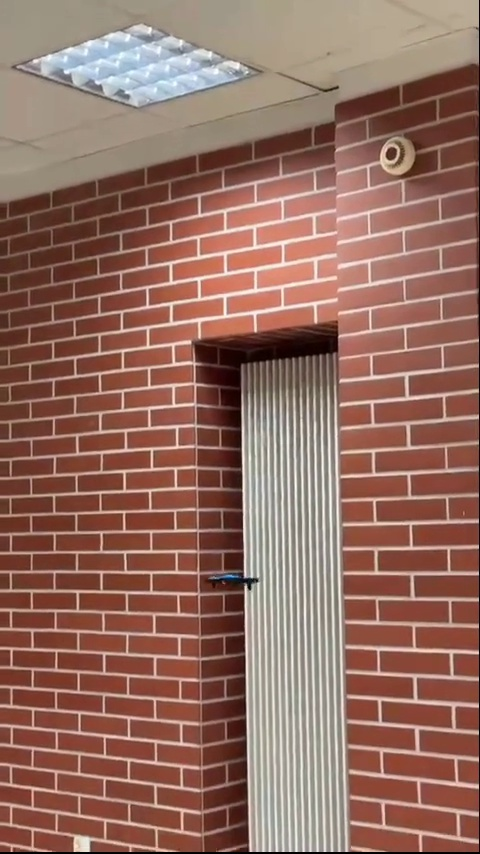drone: (213, 573, 262, 594)
